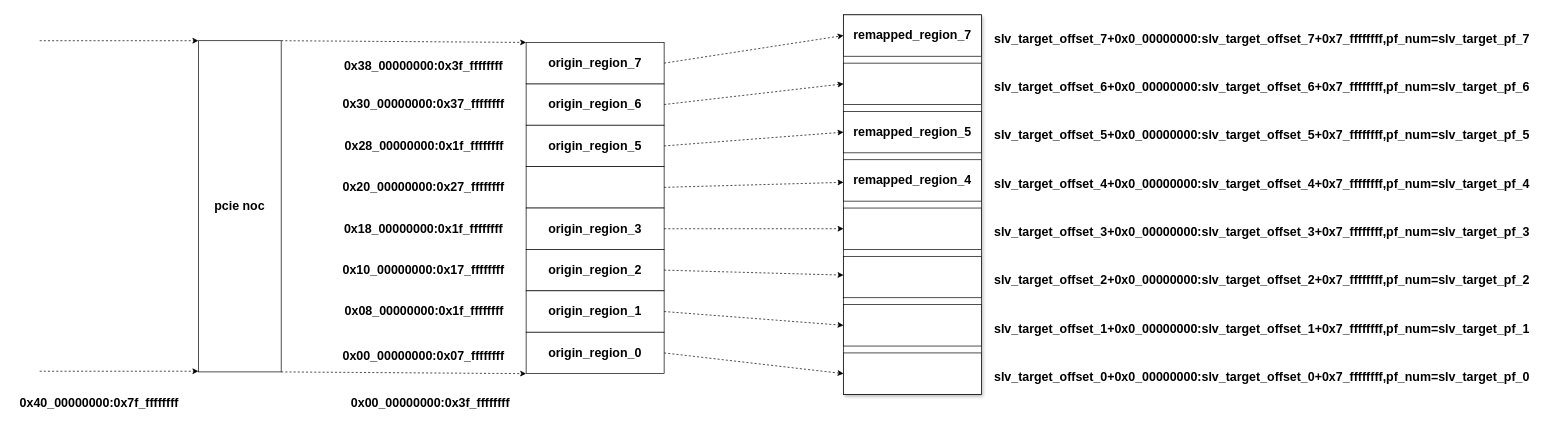
This 1551x426 diagram has some shape labels left out. The shapes that lost their labels are listed below. From the top down, each one's centre as x and y in pixels, then its label:
point 912,83: remapped_region_6
point 594,187: origin_region_4
point 912,228: remapped_region_3
point 912,277: remapped_region_2
point 912,325: remapped_region_1
point 912,373: remapped_region_0
